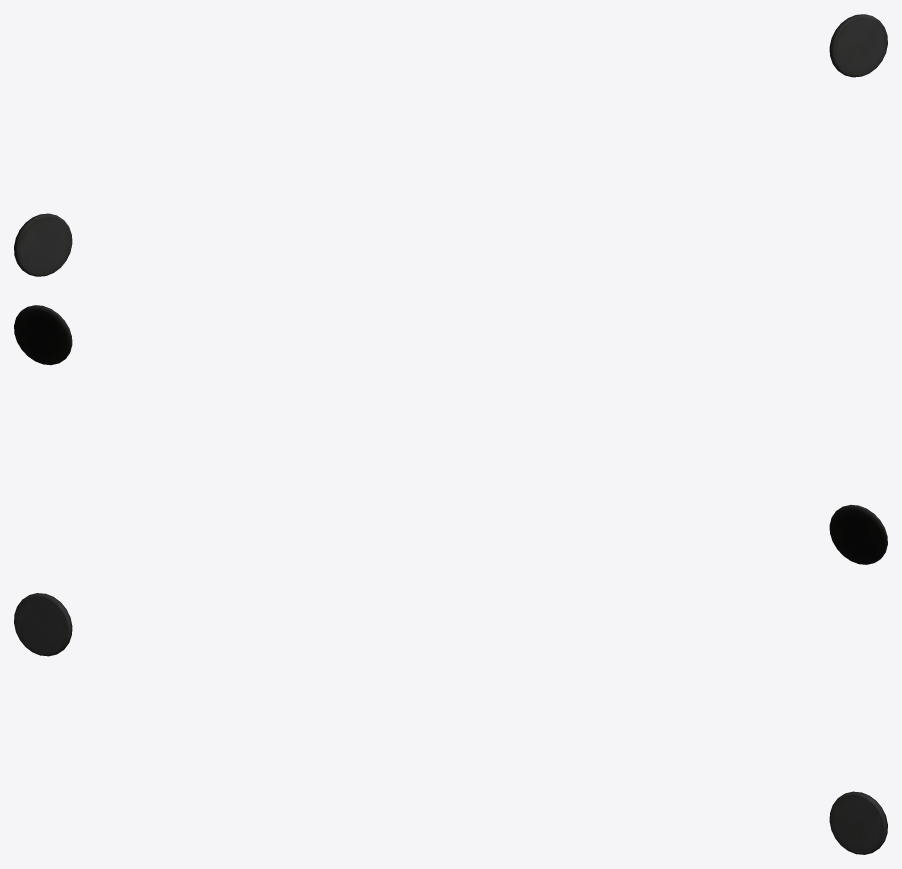
File: edwin_king_size_bed_fabric_junipergreem_fabric_button_0_lev1.glb
3 renders of one model, top to bottom at view 1: azimuth 30°, elevation 25°; view 2: azimuth 150°, elevation 25°; view 3: azimuth 330°, elevation 25°, orthographic.
Visible parts, largest first — view 1: edwin_king_size_bed_fabric_junipergreem_fabric_button_0_lev1; view 2: edwin_king_size_bed_fabric_junipergreem_fabric_button_0_lev1; view 3: edwin_king_size_bed_fabric_junipergreem_fabric_button_0_lev1.
Boxes of the visible parts, x1,y1,x2,y2 form: edwin_king_size_bed_fabric_junipergreem_fabric_button_0_lev1: [14, 14, 887, 276]; edwin_king_size_bed_fabric_junipergreem_fabric_button_0_lev1: [14, 305, 887, 564]; edwin_king_size_bed_fabric_junipergreem_fabric_button_0_lev1: [14, 593, 887, 854].
Bounding box in the file's own units: 4.83 × 0.3171 × 0.061.
1 material, 1 textured.
